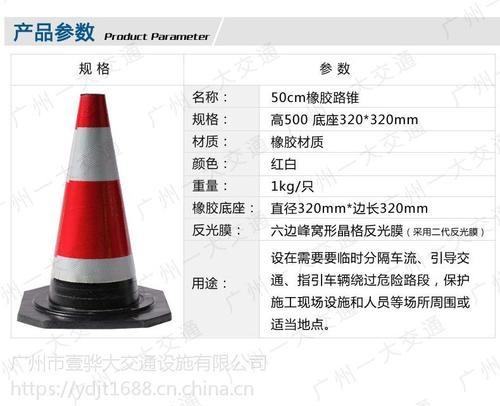cone_barrel: (31, 96, 150, 321)
